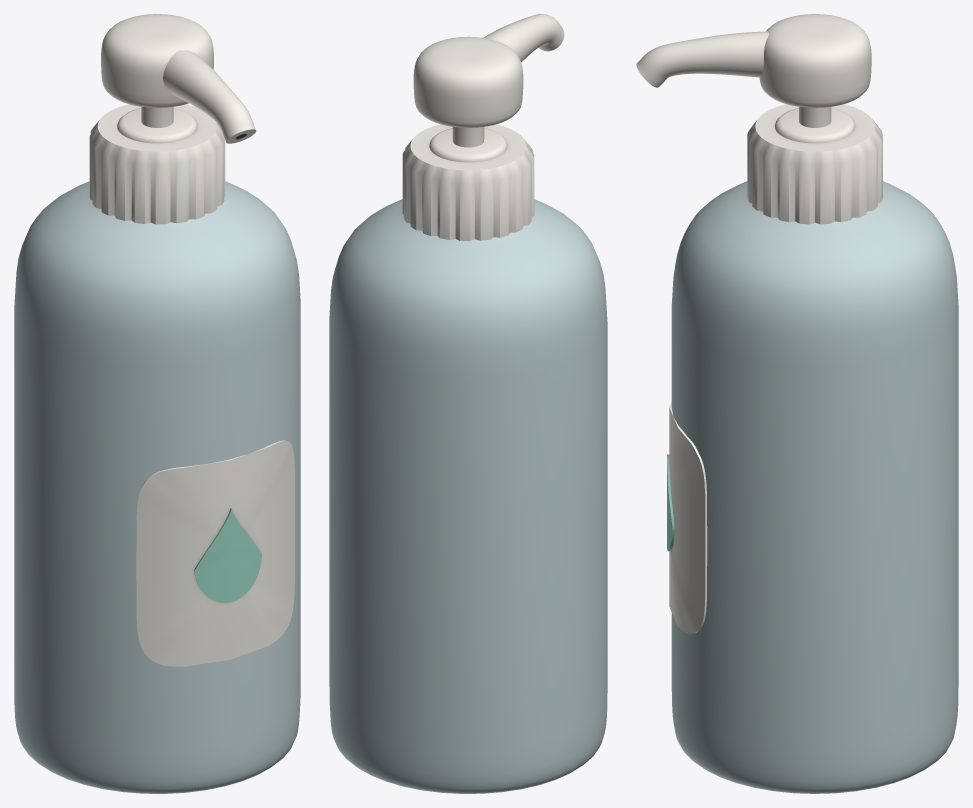
The model's file is dosificador.glb.
The picture shows the model from 3 angles, left to right: view 1: azimuth 30°, elevation 25°; view 2: azimuth 150°, elevation 25°; view 3: azimuth 270°, elevation 25°; orthographic projection. The views are drawn at different scales.
Parts seen in each view (by area): view 1: pump-bottle_body; view 2: pump-bottle_body; view 3: pump-bottle_body.
Boxes of the visible parts, box(x1,y1,x2,y2) form: pump-bottle_body: box(14, 14, 300, 793); pump-bottle_body: box(329, 14, 607, 793); pump-bottle_body: box(636, 14, 958, 793).
Size of the model in its own units: 0.06 by 0.1641 by 0.0674.
4 materials, 2 textured.
